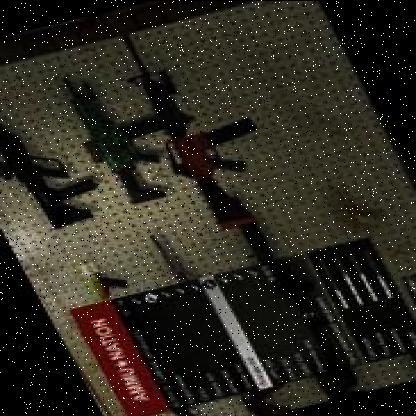rifle: (96, 18, 298, 240), (0, 85, 102, 237)
